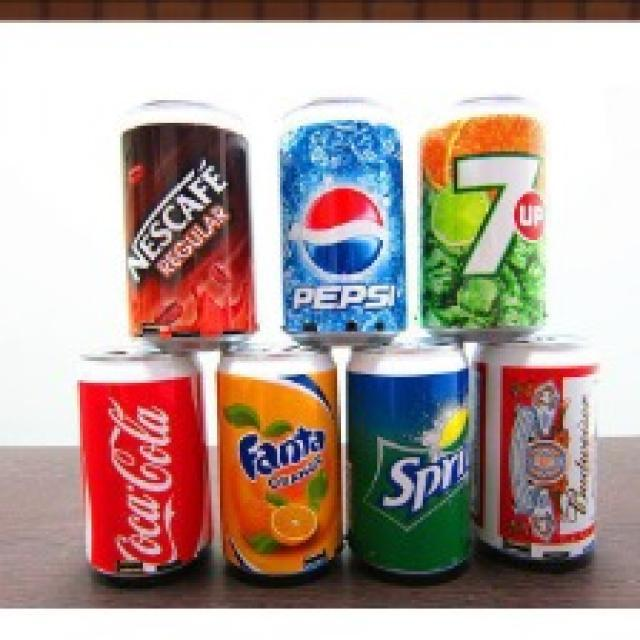heap: (78, 64, 628, 591)
metel: (263, 88, 416, 349), (119, 99, 260, 350), (427, 80, 559, 345), (214, 340, 352, 584), (69, 350, 216, 576), (349, 345, 481, 581), (471, 350, 606, 565)
